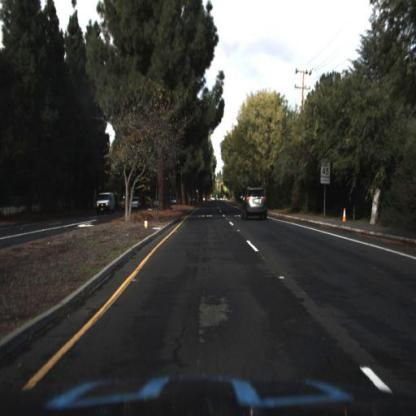car: (242, 188, 269, 222), (94, 186, 119, 218), (97, 193, 115, 214)
